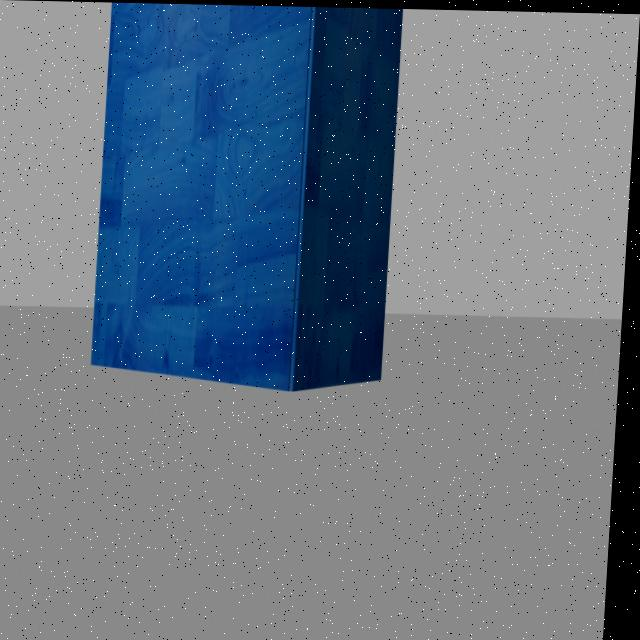shelf: (67, 1, 439, 405)
